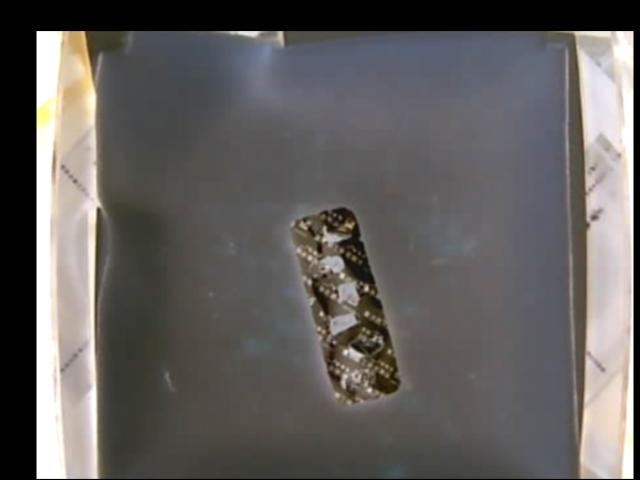Medicine: (288, 205, 400, 407)
